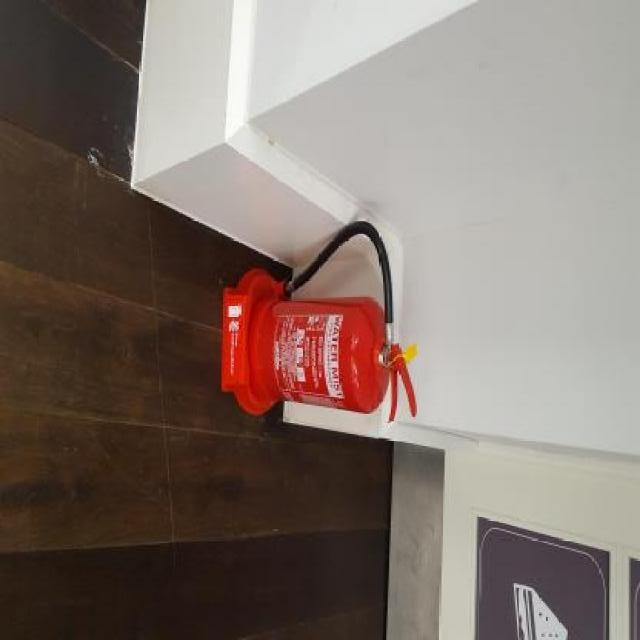fire extinguisher: (249, 222, 417, 426)
